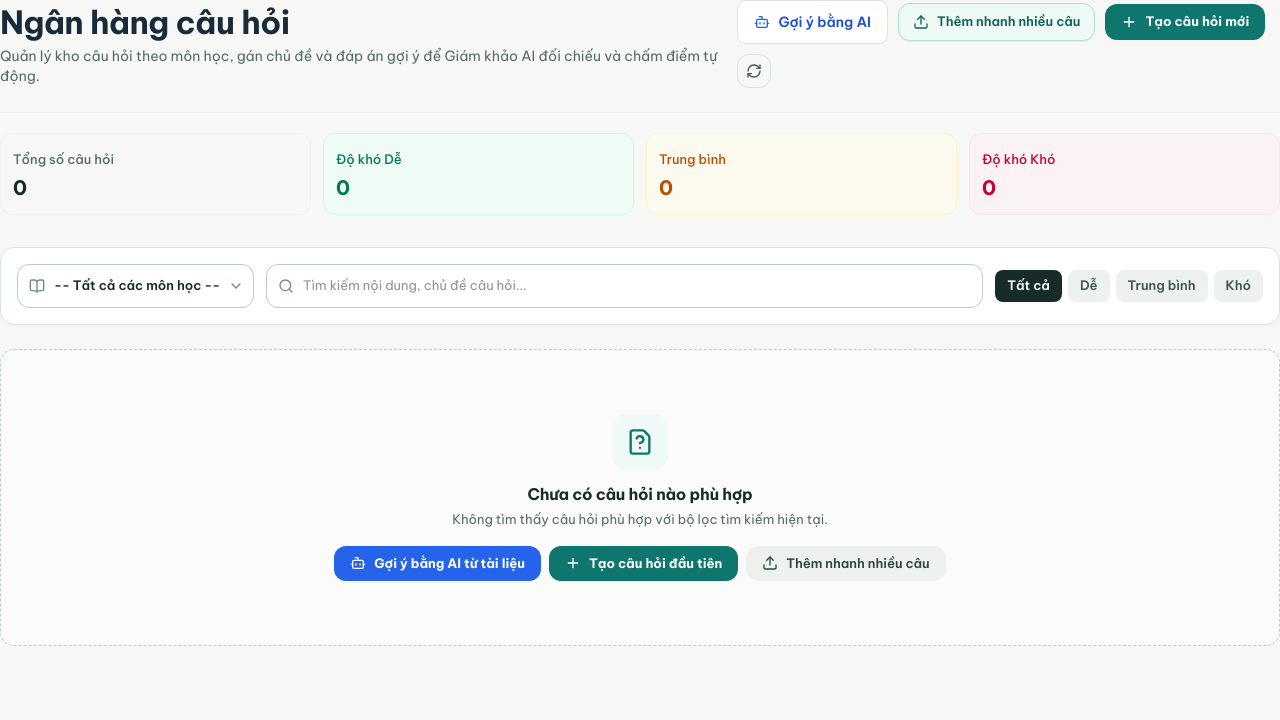
it: question bank exceptions › AI generation failure never creates approved questions
Click the button "Gợi ý bằng AI": point(813, 22) [737,0,888,44]
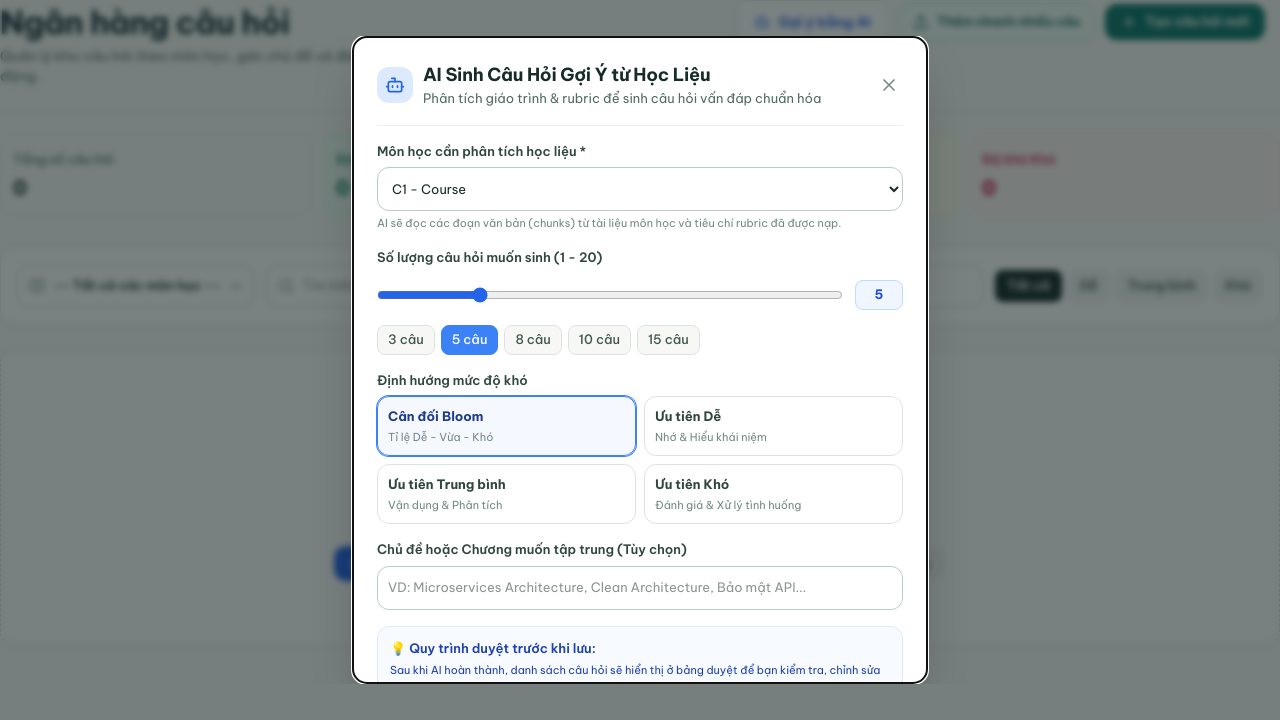
Select "C1 - Course" in the dropdown: point(640, 189) [377,167,903,211]
(page scrolled)
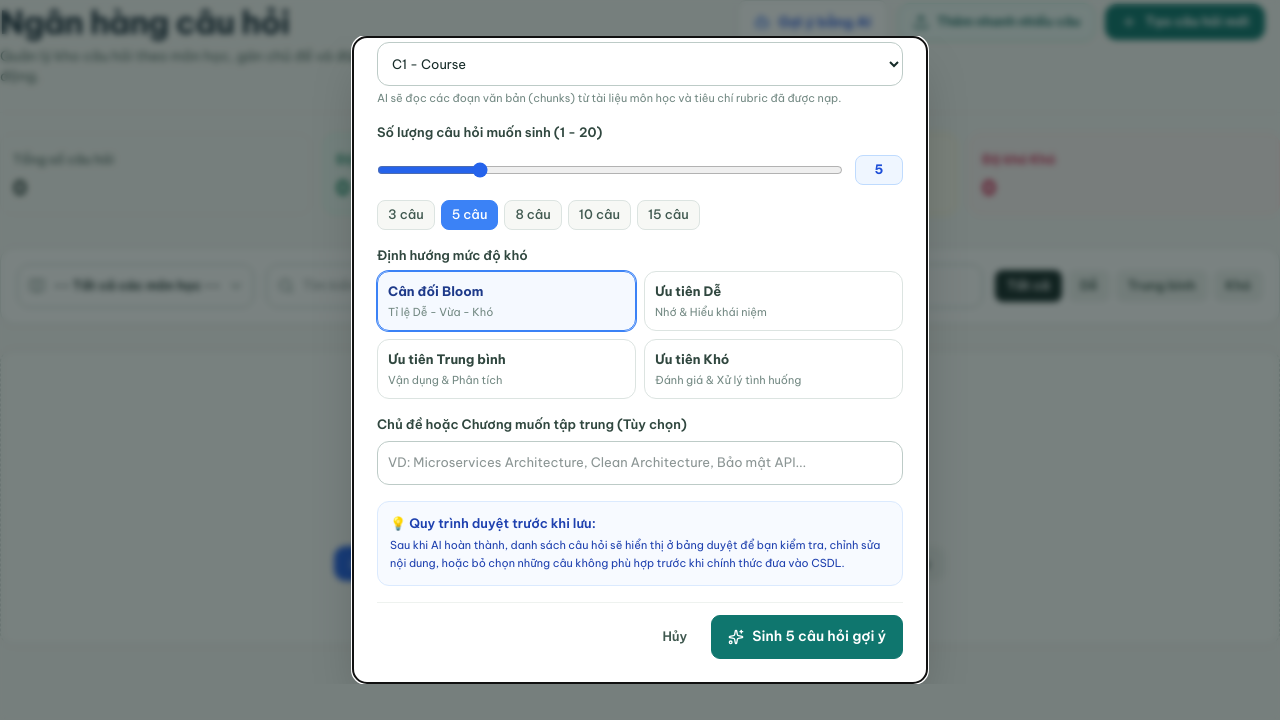
Click the button "Sinh 5 câu hỏi gợi ý": point(807, 637) [711,615,903,659]
(page scrolled)
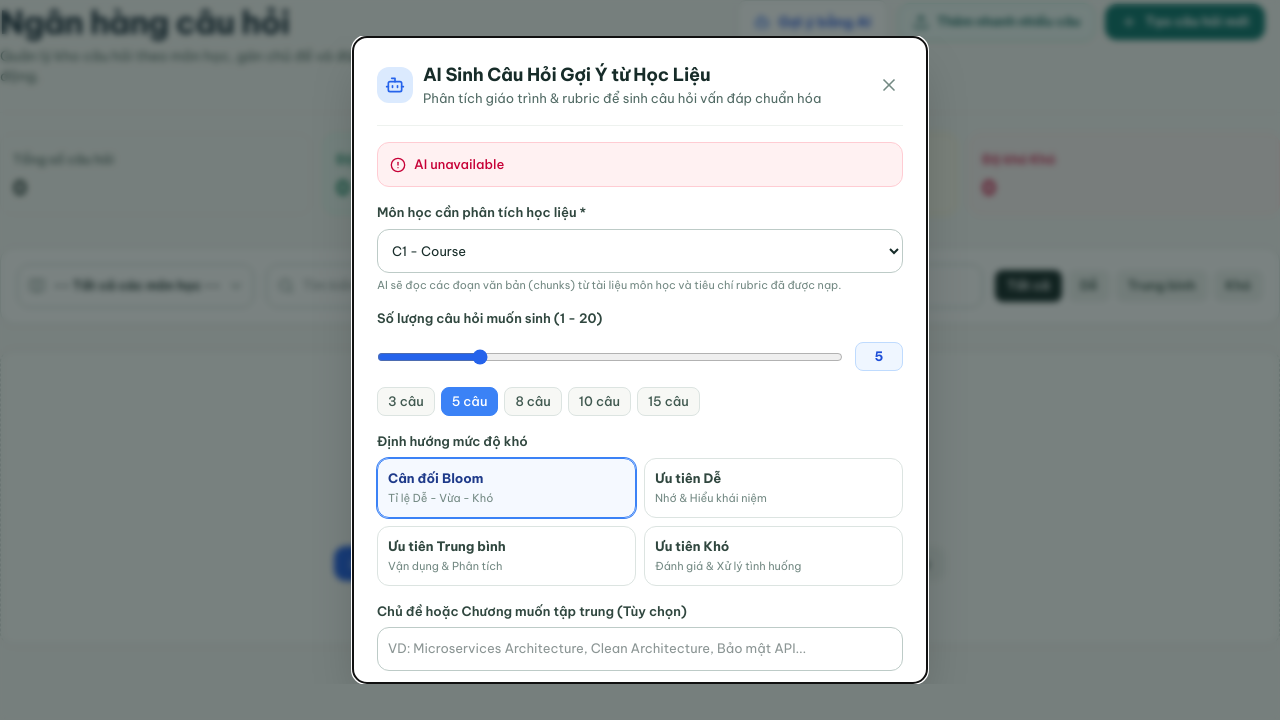
Now the text "AI unavailable" is shown, box [414,156,504,172]
